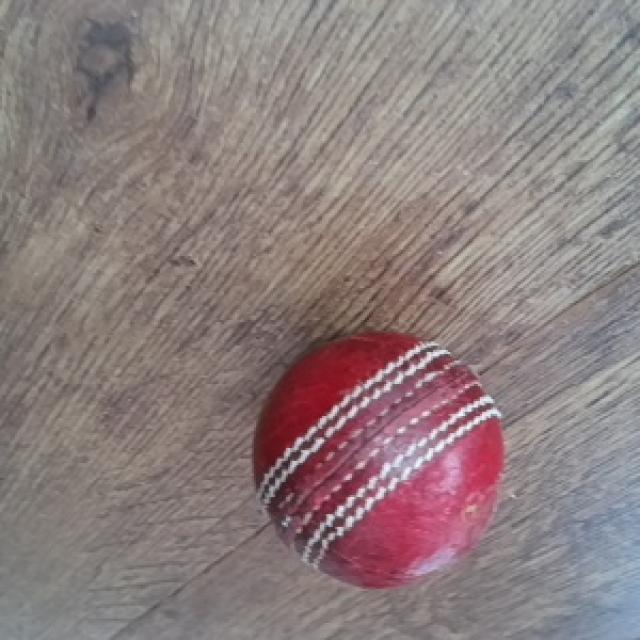ball: (244, 336, 510, 585)
